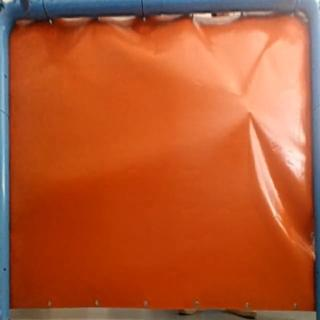Hit-hRxx: (246, 110, 258, 119)
